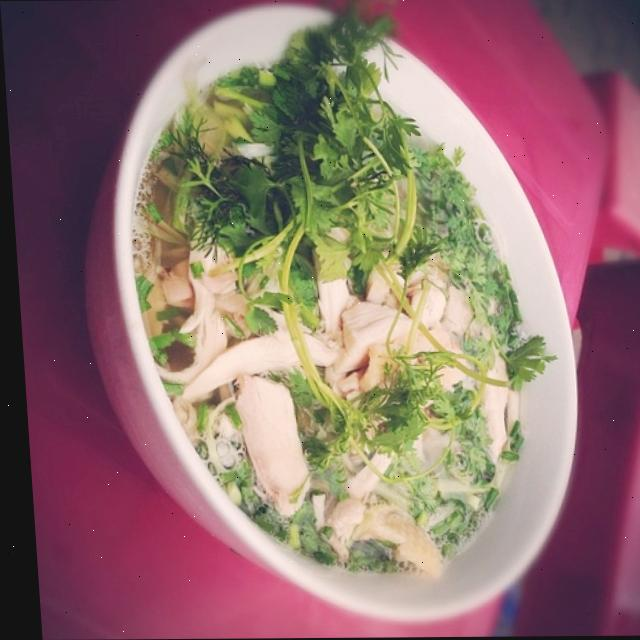面条主食: (83, 24, 611, 610)
